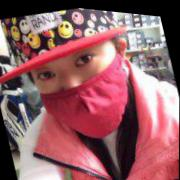WRONG: (27, 28, 141, 151)
